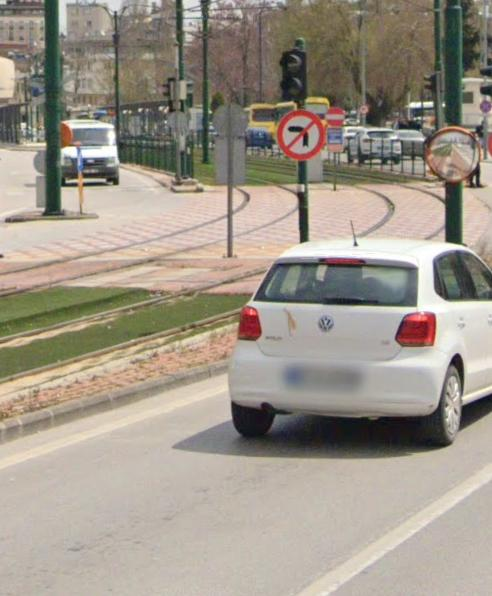leftturnsareforbidden: (280, 112, 324, 157)
